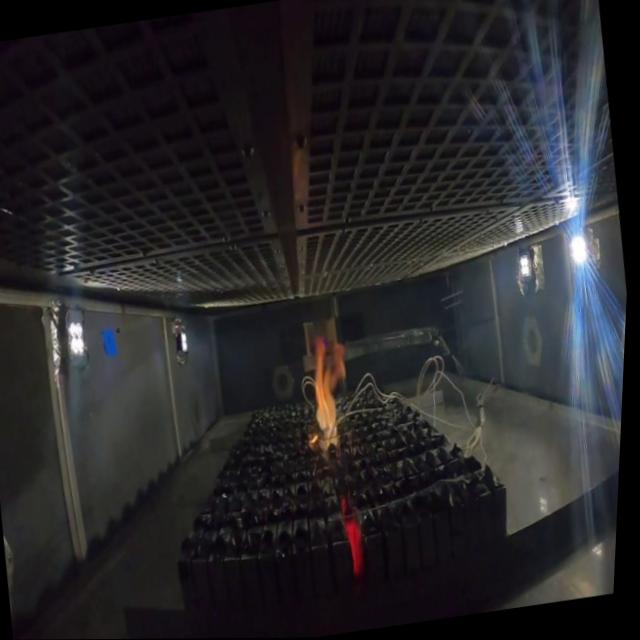fire: (302, 323, 366, 449)
